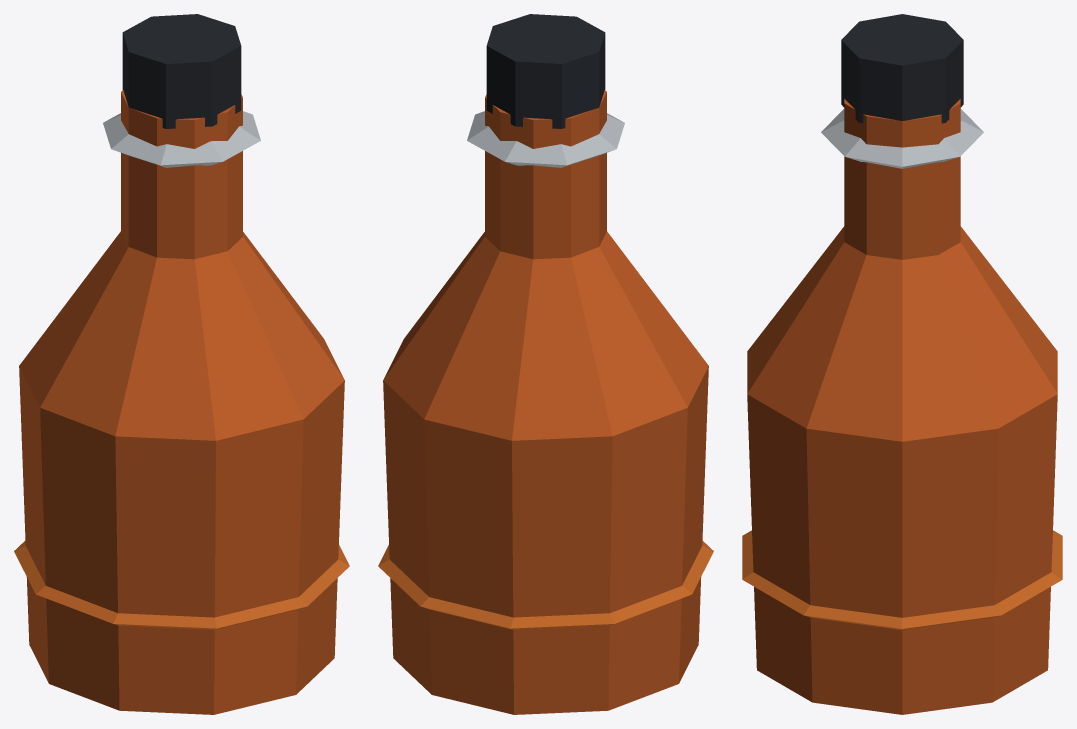
Rendered from deuterium-pyro.glb.
3 views of the same model, side by side, from view 1: azimuth 30°, elevation 25°; view 2: azimuth 150°, elevation 25°; view 3: azimuth 270°, elevation 25° (orthographic).
Visible parts, largest first — view 1: m; view 2: m; view 3: m.
Part boxes in pixels (x1,y1,x2,y2): m: [14, 14, 349, 714]; m: [378, 14, 713, 714]; m: [742, 14, 1062, 714].
Bounding box in the file's own units: 0.066 × 0.132 × 0.0628.
